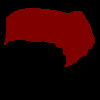mutande: (4, 7, 95, 67)
